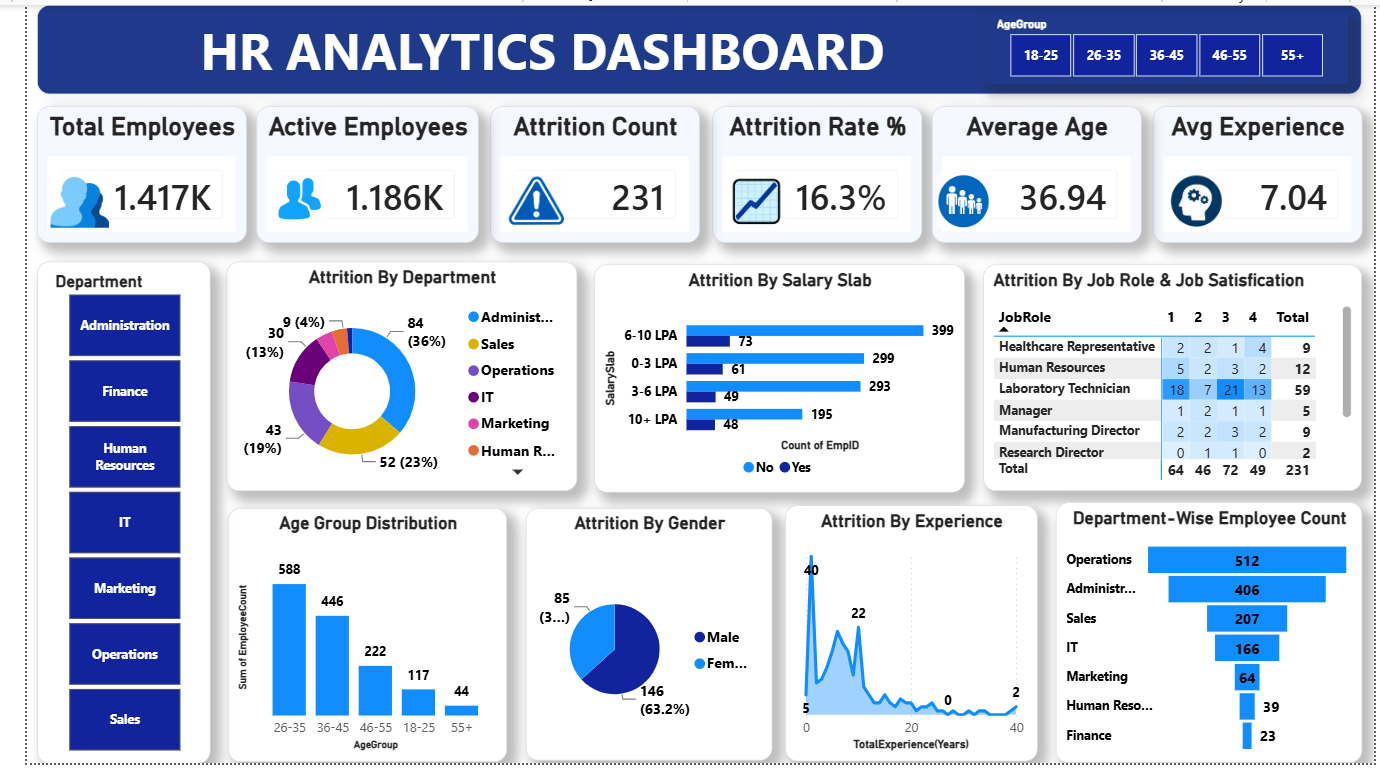

The page's visual inventory and layout, read from the dashboard file:
{"tool":"powerbi","page":{"name":"Page 1","canvas":[1280,720],"ordinal":0},"visuals":[{"type":"textbox","box":[10,0,1259,85],"z":0},{"type":"cardVisual","title":"Attrition Rate %","fields":{"Data":["HR_Analytics-4.Attrition Rate %"]},"box":[651.4,96.2,199.1,130],"z":1000},{"type":"cardVisual","title":"Total Employees","fields":{"Data":["CountNonNull(HR_Analytics-4.EmpID)"]},"box":[9.5,96.2,199.1,130],"z":2000},{"type":"cardVisual","title":"Attrition Count","fields":{"Data":["Sum(HR_Analytics-4.AttritionCount)"]},"box":[440.2,96.2,199.1,130],"z":3000},{"type":"cardVisual","title":"Active Employees","fields":{"Data":["CountNonNull(HR_Analytics-4.EmployeeCount)"]},"box":[218,96.2,211.3,130],"z":4000},{"type":"cardVisual","title":"Avg Experience","fields":{"Data":["Avg(HR_Analytics-4.YearsatCompany)"]},"box":[1069.9,96.2,199.1,130],"z":5000},{"type":"cardVisual","title":"Average Age","fields":{"Data":["Avg(HR_Analytics-4.Age)"]},"box":[860,96.2,199.1,130],"z":6000},{"type":"image","box":[19.6,161.2,63.1,50.5],"z":7000},{"type":"image","box":[454.1,161.2,60.3,50.5],"z":8000},{"type":"image","box":[1082,161.2,60.3,50.5],"z":9000},{"type":"image","box":[860.6,161.2,60.3,50.5],"z":11000},{"type":"image","box":[228.5,161.2,60.3,50.5],"z":12000},{"type":"donutChart","title":"Attrition By Department","fields":{"Category":["HR_Analytics-4.Department"],"Y":["Sum(HR_Analytics-4.AttritionCount)"]},"box":[189.6,243.8,333.2,218],"z":13000},{"type":"clusteredBarChart","title":"Attrition By Salary Slab","fields":{"Category":["HR_Analytics-4.SalarySlab"],"Y":["CountNonNull(HR_Analytics-4.EmpID)"],"Series":["HR_Analytics-4.Attrition"]},"box":[539,246.5,352.1,216.7],"z":14000},{"type":"pivotTable","title":"Attrition By Job Role & Job Satisfication","fields":{"Rows":["HR_Analytics-4.JobRole"],"Values":["Sum(HR_Analytics-4.AttritionCount)"],"Columns":["HR_Analytics-4.JobSatisfaction"]},"box":[908.8,246.5,360.3,215.3],"z":15000},{"type":"columnChart","title":"Age Group Distribution","fields":{"Category":["HR_Analytics-4.AgeGroup"],"Y":["Sum(HR_Analytics-4.EmployeeCount)"]},"box":[191,478.1,265.5,241.1],"z":16000},{"type":"pieChart","title":"Attrition By Gender","fields":{"Category":["HR_Analytics-4.Gender"],"Y":["Sum(HR_Analytics-4.AttritionCount)"]},"box":[474,478.1,234.3,239.7],"z":17000},{"type":"areaChart","title":"Attrition By Experience","fields":{"Category":["HR_Analytics-4.TotalExperience(Years)"],"Y2":["Sum(HR_Analytics-4.AttritionCount)"]},"box":[720.5,475.4,239.7,243.8],"z":18000},{"type":"funnel","title":"Department-Wise Employee Count","fields":{"Category":["HR_Analytics-4.Department"],"Y":["CountNonNull(HR_Analytics-4.EmpID)"]},"box":[977.8,472.7,291.2,247.8],"z":19000},{"type":"slicer","fields":{"Values":["HR_Analytics-4.Department"]},"box":[9.8,243.9,165,477],"z":20000},{"type":"slicer","fields":{"Values":["HR_Analytics-4.AgeGroup"]},"box":[908.2,7,347,68],"z":21000},{"type":"image","box":[660.1,161.2,60.3,50.5],"z":21001}]}

Visuals, with their boxes in screenshot pixels (x1, y1, x2, y2), scaled from the page's 1280x720 canvas onto the 1380x768 screenshot:
textbox: <box>11,0,1368,91</box>
"Attrition Rate %" cardVisual: <box>702,103,917,241</box>
"Total Employees" cardVisual: <box>10,103,225,241</box>
"Attrition Count" cardVisual: <box>475,103,689,241</box>
"Active Employees" cardVisual: <box>235,103,463,241</box>
"Avg Experience" cardVisual: <box>1153,103,1368,241</box>
"Average Age" cardVisual: <box>927,103,1142,241</box>
image: <box>21,172,89,226</box>
image: <box>490,172,555,226</box>
image: <box>1167,172,1232,226</box>
image: <box>928,172,993,226</box>
image: <box>246,172,311,226</box>
"Attrition By Department" donutChart: <box>204,260,564,493</box>
"Attrition By Salary Slab" clusteredBarChart: <box>581,263,961,494</box>
"Attrition By Job Role & Job Satisfication" pivotTable: <box>980,263,1368,493</box>
"Age Group Distribution" columnChart: <box>206,510,492,767</box>
"Attrition By Gender" pieChart: <box>511,510,764,766</box>
"Attrition By Experience" areaChart: <box>777,507,1035,767</box>
"Department-Wise Employee Count" funnel: <box>1054,504,1368,767</box>
slicer - HR_Analytics-4.Department: <box>11,260,188,767</box>
slicer - HR_Analytics-4.AgeGroup: <box>979,7,1353,80</box>
image: <box>712,172,777,226</box>
